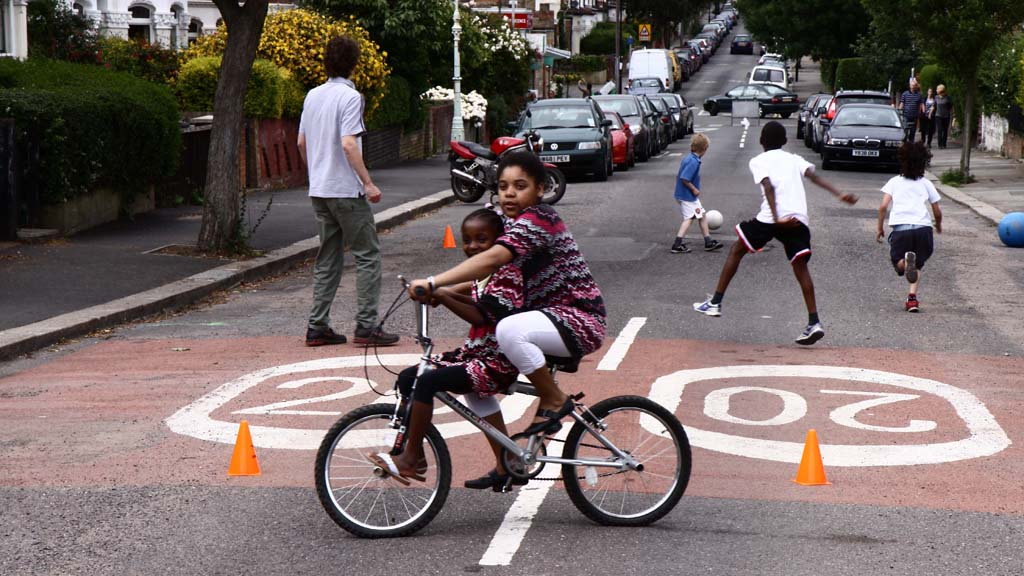Bicycle: (310, 275, 710, 543)
Car: (510, 92, 616, 176), (814, 76, 913, 163)
Person: (293, 31, 404, 343), (723, 127, 835, 341), (880, 148, 946, 314), (660, 139, 722, 260)
